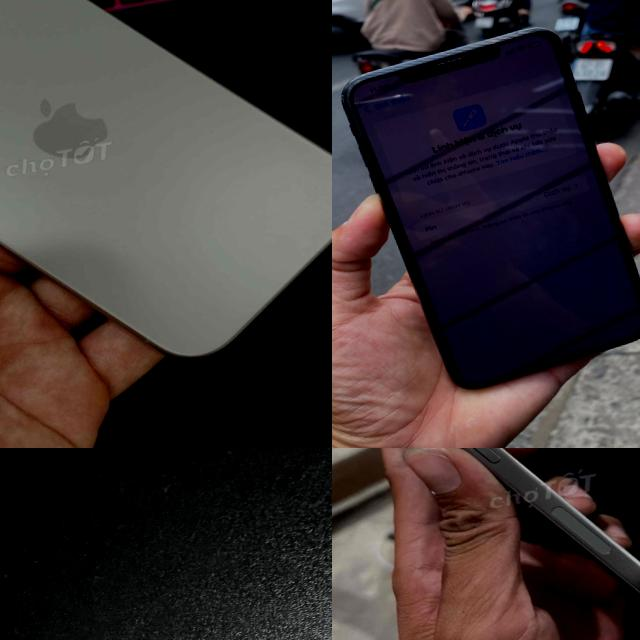gen_11: (332, 14, 640, 403)
gen_15: (0, 0, 332, 448), (332, 448, 640, 640)
